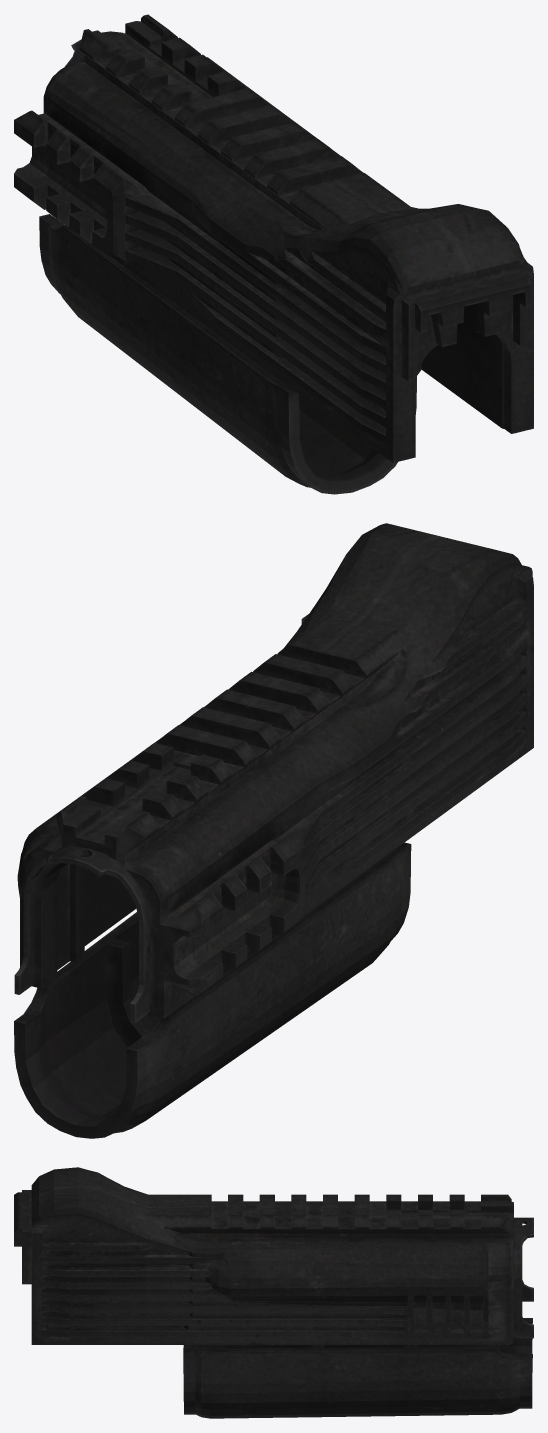
The picture shows the model from 3 angles, top to bottom: view 1: azimuth 30°, elevation 25°; view 2: azimuth 150°, elevation 25°; view 3: azimuth 270°, elevation 25°; orthographic projection. The views are drawn at different scales.
Visible parts, largest first — view 1: TW_5cbda392ae92155f3c17c39f_PZ_Import; view 2: TW_5cbda392ae92155f3c17c39f_PZ_Import; view 3: TW_5cbda392ae92155f3c17c39f_PZ_Import.
Boxes of the visible parts, <box> form: TW_5cbda392ae92155f3c17c39f_PZ_Import: <box>14,14,533,494</box>; TW_5cbda392ae92155f3c17c39f_PZ_Import: <box>14,523,533,1138</box>; TW_5cbda392ae92155f3c17c39f_PZ_Import: <box>14,1167,533,1418</box>.
Bounding box in the file's own units: 0.0276 × 0.0951 × 0.0461.
1 material, 1 textured.
